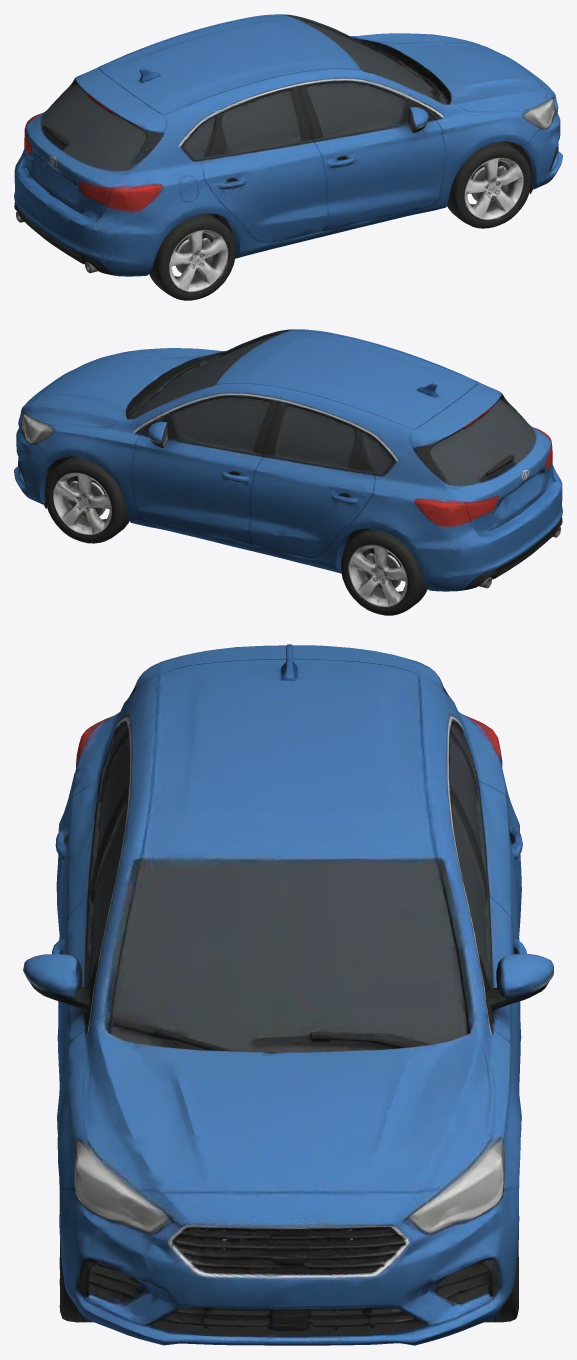
File: car-family-hf.glb
3 renders of one model, top to bottom at view 1: azimuth 30°, elevation 25°; view 2: azimuth 150°, elevation 25°; view 3: azimuth 270°, elevation 25°, orthographic. The views are drawn at different scales.
Parts seen in each view (by area): view 1: tripo_node_7f3ebfde-6ad0-4142-a028-8af780ccb5b4; view 2: tripo_node_7f3ebfde-6ad0-4142-a028-8af780ccb5b4; view 3: tripo_node_7f3ebfde-6ad0-4142-a028-8af780ccb5b4.
Part boxes in pixels (<box>): tripo_node_7f3ebfde-6ad0-4142-a028-8af780ccb5b4: <box>14,14,562,300</box>; tripo_node_7f3ebfde-6ad0-4142-a028-8af780ccb5b4: <box>14,329,562,615</box>; tripo_node_7f3ebfde-6ad0-4142-a028-8af780ccb5b4: <box>23,644,553,1345</box>.
Size of the model in its own units: 1 by 0.3697 by 0.4687.
1 material, 1 textured.
